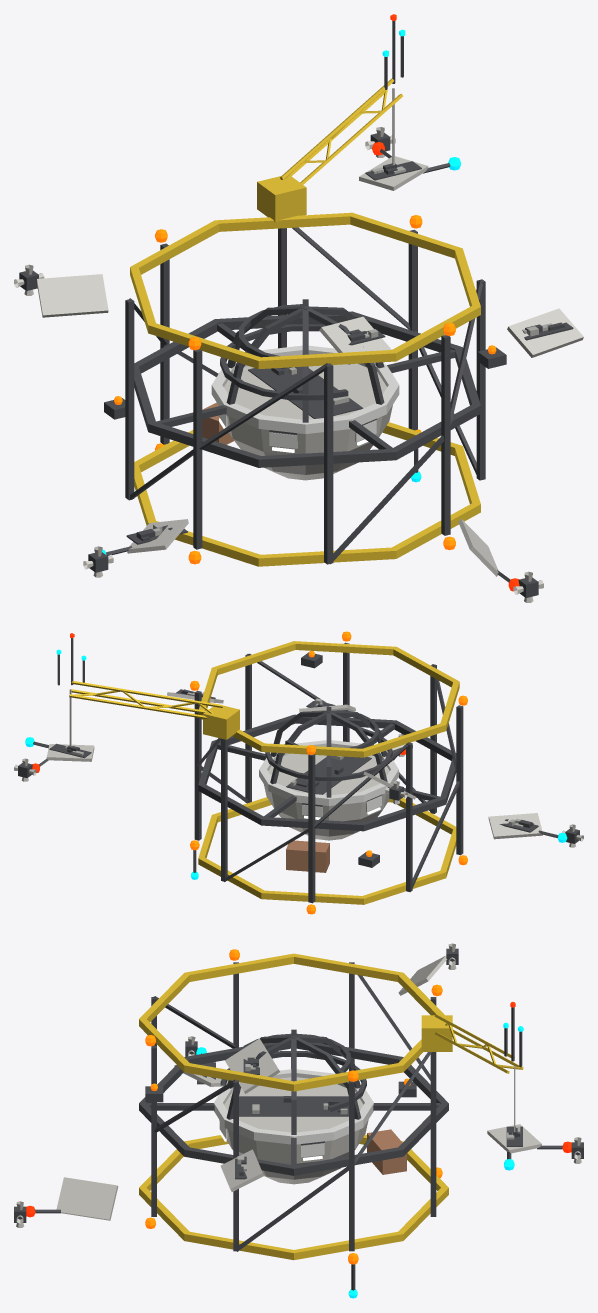
Rendered from build_site.glb.
3 views of the same model, one above another, from view 1: azimuth 30°, elevation 25°; view 2: azimuth 150°, elevation 25°; view 3: azimuth 270°, elevation 25° (orthographic). The views are drawn at different scales.
Visible parts, largest first — view 1: build_site; view 2: build_site; view 3: build_site.
Part boxes in pixels (<box>): build_site: <box>14,14,583,602</box>; build_site: <box>14,631,583,914</box>; build_site: <box>14,943,583,1298</box>.
Size of the model in its own units: 1.47 by 0.9545 by 1.51.
